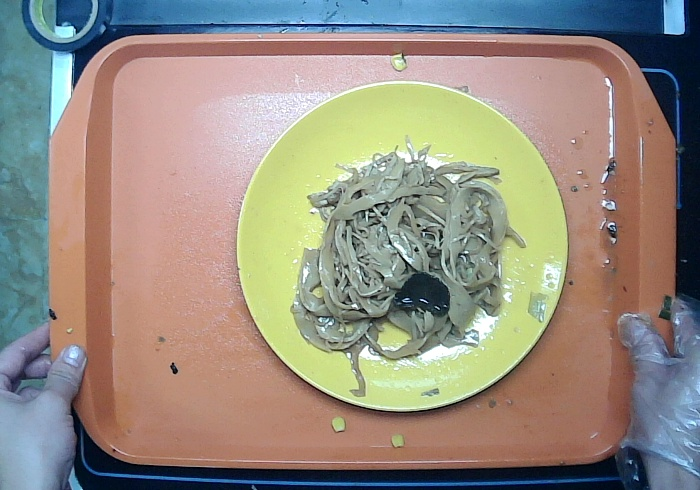HZYJPL-Huang_Se_Yuan_Pan: (221, 68, 573, 421)
